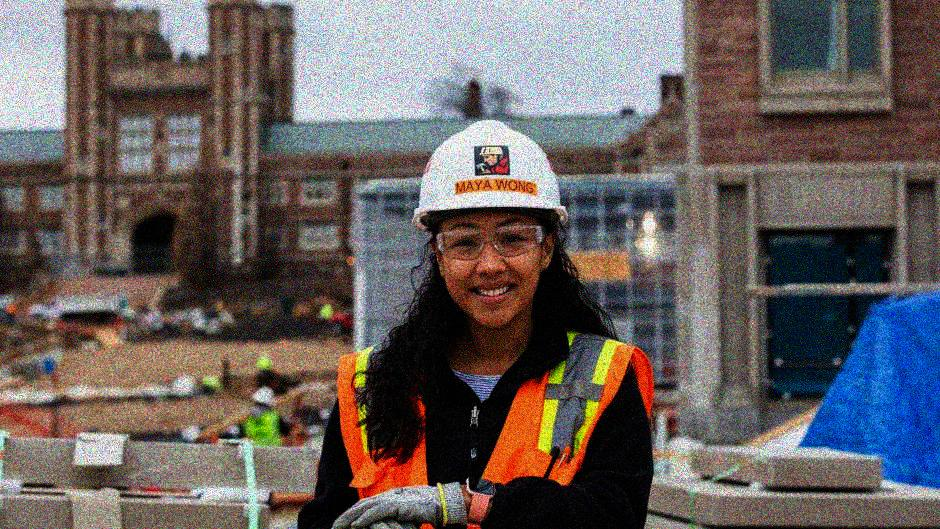helmet: (408, 112, 571, 327)
